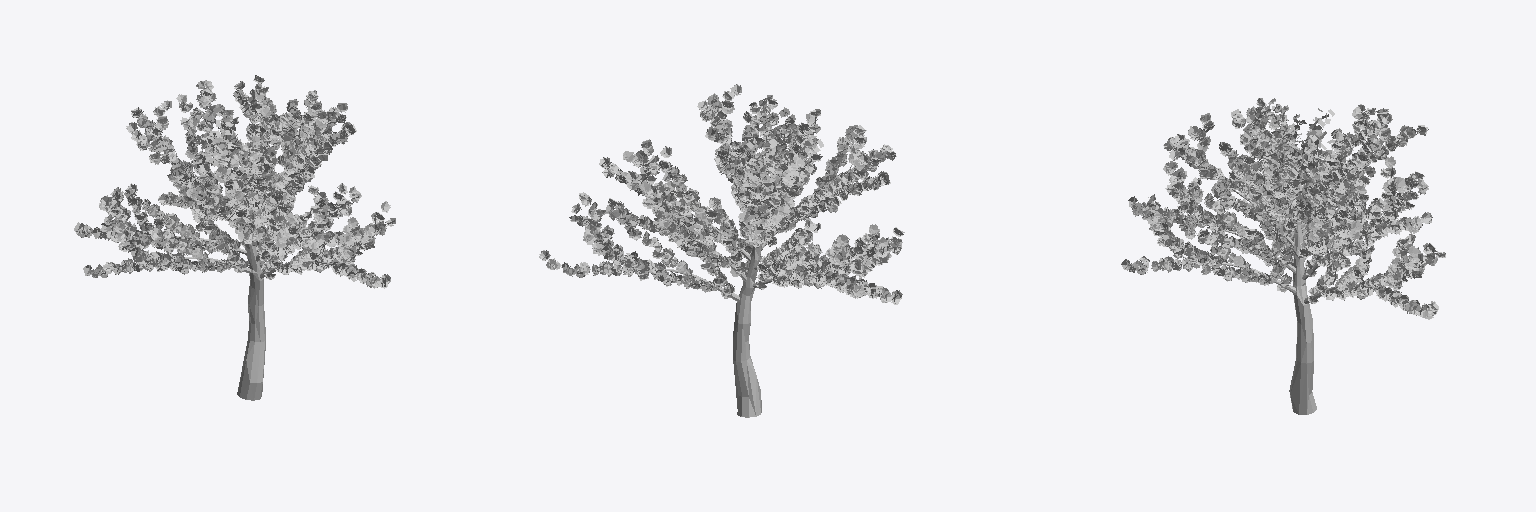
The model's file is BlossomTree.obj.
3 renders of one model, left to right at view 1: azimuth 30°, elevation 25°; view 2: azimuth 150°, elevation 25°; view 3: azimuth 270°, elevation 25°, orthographic.
Visible parts, largest first — view 1: flower12, flower5, flower7, flower8, bark, flower1, flower10, flower6, flower4, flower3, flower2, flower11; view 2: flower11, flower12, flower9, flower8, flower10, bark, flower7, flower2, flower1, flower4, flower3, flower5; view 3: flower12, flower5, flower11, flower10, flower6, bark, flower3, flower4, flower9, flower1, flower2.
Part boxes in pixels (bbox=[...]): flower12: bbox=[176, 80, 289, 195]; flower5: bbox=[256, 183, 363, 266]; flower7: bbox=[143, 199, 249, 274]; flower8: bbox=[74, 183, 153, 277]; bark: bbox=[91, 109, 385, 400]; flower1: bbox=[126, 100, 229, 220]; flower10: bbox=[214, 75, 347, 162]; flower6: bbox=[262, 201, 395, 288]; flower4: bbox=[253, 109, 356, 204]; flower3: bbox=[216, 180, 276, 246]; flower2: bbox=[158, 168, 246, 223]; flower11: bbox=[258, 101, 327, 271]; flower11: bbox=[539, 192, 734, 298]; flower12: bbox=[714, 95, 823, 212]; flower9: bbox=[658, 146, 747, 276]; flower8: bbox=[804, 224, 904, 304]; flower10: bbox=[599, 139, 687, 242]; bark: bbox=[588, 120, 869, 417]; flower7: bbox=[756, 218, 854, 289]; flower2: bbox=[780, 153, 890, 228]; flower1: bbox=[733, 176, 794, 247]; flower4: bbox=[697, 84, 758, 209]; flower3: bbox=[767, 125, 896, 246]; flower5: bbox=[742, 107, 822, 261]; flower12: bbox=[1246, 98, 1386, 209]; flower5: bbox=[1128, 149, 1292, 269]; flower11: bbox=[1308, 234, 1445, 319]; flower10: bbox=[1333, 156, 1432, 244]; flower6: bbox=[1121, 207, 1292, 292]; bark: bbox=[1125, 119, 1413, 414]; flower3: bbox=[1163, 113, 1291, 241]; flower4: bbox=[1233, 133, 1305, 230]; flower9: bbox=[1298, 194, 1376, 276]; flower1: bbox=[1302, 108, 1428, 231]; flower2: bbox=[1231, 98, 1291, 204].
Size of the model in its own units: 2.08 by 1.98 by 1.99.